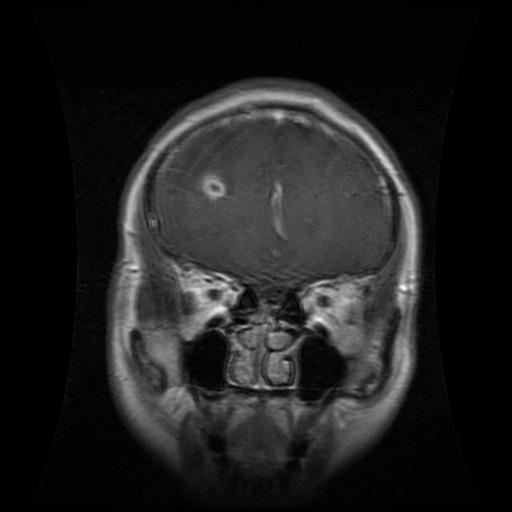Gliomia_tumour: (161, 122, 251, 199)
